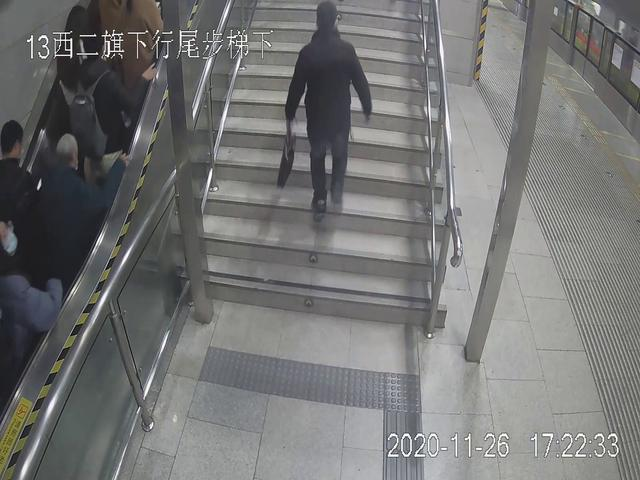person: (284, 1, 372, 218)
